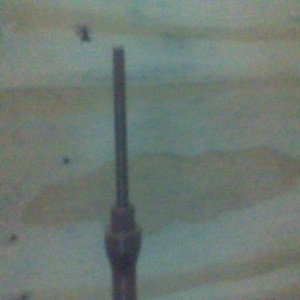obeng: (103, 46, 143, 300)
